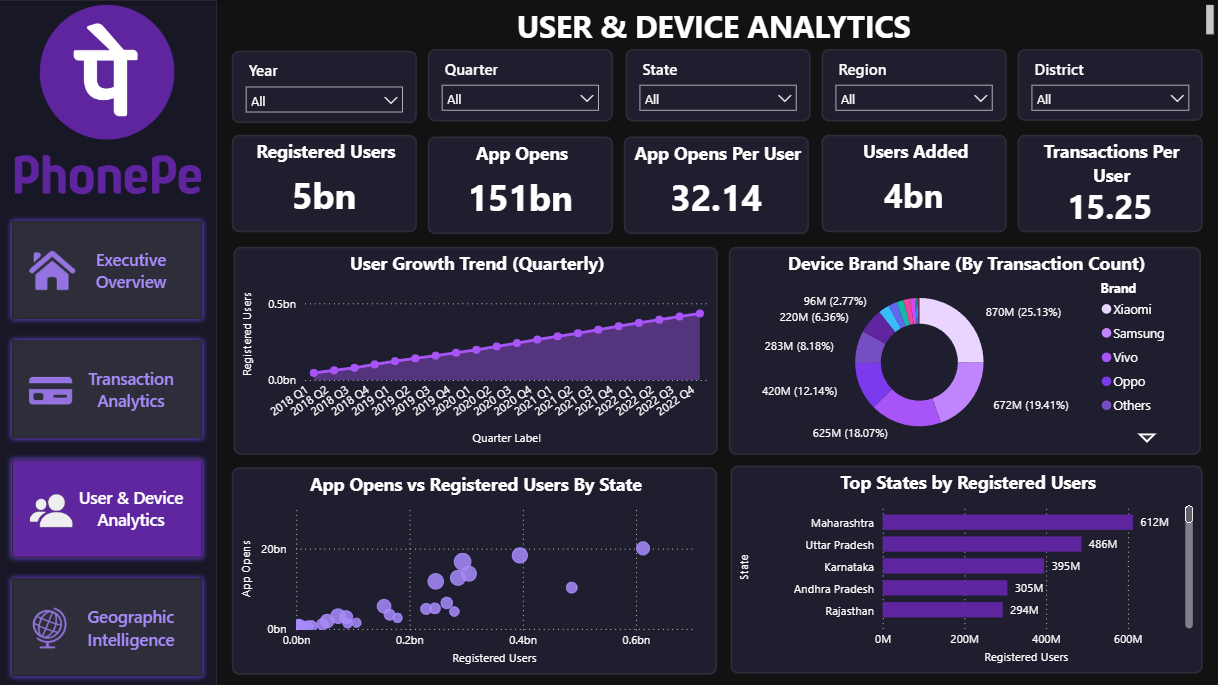

This screenshot's page, from the dashboard's own definition file:
{"tool":"powerbi","page":{"name":"User & Device Analytics","canvas":[1280,720],"ordinal":2},"visuals":[{"type":"shape","box":[0,0,228.6,720.4],"z":1000},{"type":"pageNavigator","box":[8.2,226.1,212.2,493.9],"z":1500},{"type":"image","box":[34.7,0,157.1,151],"z":2000},{"type":"image","box":[0,132.7,228.6,89.8],"z":3000},{"type":"textbox","box":[228,0,1052,46],"z":4000},{"type":"image","box":[23.6,504.5,62.7,60.9],"z":5000},{"type":"slicer","title":"Year","fields":{"Values":["Dim_Date.Year"]},"box":[244.1,52.6,194,76],"z":6000},{"type":"slicer","title":"Year","fields":{"Values":["Dim_Date.Quarter"]},"box":[450.3,52.2,194,76],"z":7000},{"type":"slicer","title":"Year","fields":{"Values":["Dim_State.State"]},"box":[656.6,52.2,194,76],"z":8000},{"type":"slicer","title":"Year","fields":{"Values":["Dim_State.Region"]},"box":[862.8,52.2,194,76],"z":9000},{"type":"slicer","title":"Year","fields":{"Values":["Dim_District.District"]},"box":[1067.8,52.2,194.4,75.6],"z":10000},{"type":"card","title":"Registered Users","fields":{"Values":["map_user_updated.Registered Users"]},"box":[244.3,142.1,194,102.1],"z":11000},{"type":"card","title":"App Opens","fields":{"Values":["map_user_updated.App Opens"]},"box":[450.2,142.4,194,102.2],"z":12000},{"type":"card","title":"App Opens Per User","fields":{"Values":["map_user_updated.App Opens Per User"]},"box":[656.1,142.4,194,102.2],"z":13000},{"type":"card","title":"Users Added","fields":{"Values":["map_user_updated.User Growth"]},"box":[862.1,142,194,102],"z":14000},{"type":"card","title":"Transactions Per User","fields":{"Values":["map_user_updated.Transactions Per User"]},"box":[1068,142,194,102],"z":15000},{"type":"areaChart","title":"User Growth Trend (Quarterly)","fields":{"Category":["Dim_Date.Quarter Label"],"Y":["map_user_updated.Registered Users"]},"box":[245.5,258.2,508.2,218.2],"z":16000},{"type":"donutChart","title":"Device Brand Share (By Transaction Count)","fields":{"Category":["agg_user.Brand"],"Y":["agg_user.Brand Transactions"]},"box":[766.4,258.2,495.5,218.2],"z":17000},{"type":"scatterChart","title":"App Opens vs Registered Users By State","fields":{"X":["map_user_updated.Registered Users"],"Y":["map_user_updated.App Opens"],"Category":["map_user_updated.State"],"Size":["map_user_updated.App Opens Per User"]},"box":[244.8,489.6,508.9,217.8],"z":18000},{"type":"barChart","title":"Top States by Registered Users","fields":{"Category":["map_user_updated.State"],"Y":["map_user_updated.Registered Users"]},"box":[767.3,489.1,495.5,218.2],"z":19000},{"type":"image","box":[22.3,377.7,63.1,63.1],"z":20000},{"type":"image","box":[22.3,627.7,63.1,62.3],"z":22000},{"type":"image","box":[23.1,251.5,63.8,63.8],"z":23000}]}

Visuals, with their boxes in screenshot pixels (x1, y1, x2, y2), scaled from the page's 1280x720 canvas onto the 1218x685 screenshot:
shape: <bbox>0, 0, 218, 684</bbox>
pageNavigator: <bbox>8, 215, 210, 684</bbox>
image: <bbox>33, 0, 183, 144</bbox>
image: <bbox>0, 126, 218, 212</bbox>
textbox: <bbox>217, 0, 1217, 44</bbox>
image: <bbox>22, 480, 82, 538</bbox>
"Year" slicer: <bbox>232, 50, 417, 122</bbox>
"Year" slicer: <bbox>428, 50, 613, 122</bbox>
"Year" slicer: <bbox>625, 50, 809, 122</bbox>
"Year" slicer: <bbox>821, 50, 1006, 122</bbox>
"Year" slicer: <bbox>1016, 50, 1201, 122</bbox>
"Registered Users" card: <bbox>232, 135, 417, 232</bbox>
"App Opens" card: <bbox>428, 135, 613, 233</bbox>
"App Opens Per User" card: <bbox>624, 135, 809, 233</bbox>
"Users Added" card: <bbox>820, 135, 1005, 232</bbox>
"Transactions Per User" card: <bbox>1016, 135, 1201, 232</bbox>
"User Growth Trend (Quarterly)" areaChart: <bbox>234, 246, 717, 453</bbox>
"Device Brand Share (By Transaction Count)" donutChart: <bbox>729, 246, 1201, 453</bbox>
"App Opens vs Registered Users By State" scatterChart: <bbox>233, 466, 717, 673</bbox>
"Top States by Registered Users" barChart: <bbox>730, 465, 1202, 673</bbox>
image: <bbox>21, 359, 81, 419</bbox>
image: <bbox>21, 597, 81, 656</bbox>
image: <bbox>22, 239, 83, 300</bbox>
